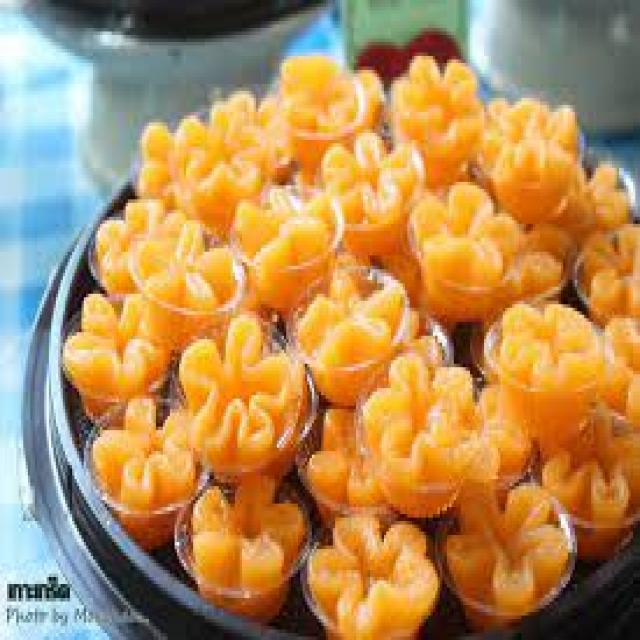Tongyib: (159, 302, 308, 464), (288, 369, 424, 519), (446, 473, 556, 640), (402, 173, 522, 318), (185, 474, 303, 620), (308, 505, 431, 640), (294, 252, 419, 384), (317, 120, 440, 254), (478, 300, 598, 437), (478, 85, 590, 230), (80, 378, 194, 518), (392, 47, 503, 186), (532, 399, 640, 530), (62, 286, 170, 411), (126, 226, 233, 346), (144, 108, 262, 215), (276, 46, 382, 152)
